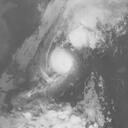cyclone: (49, 44, 78, 78)
